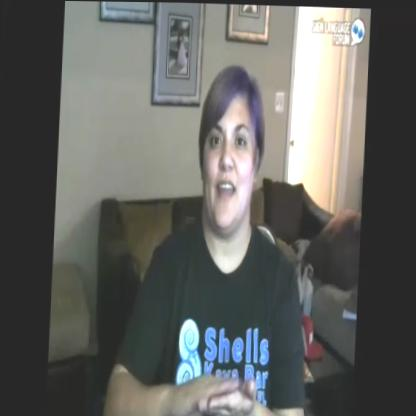NiceToMeetYou: (171, 343, 260, 416)
